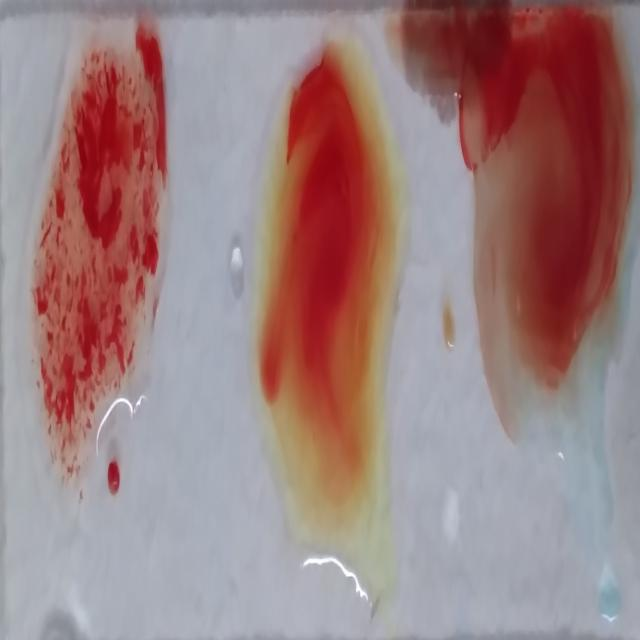D: (43, 16, 162, 505)
